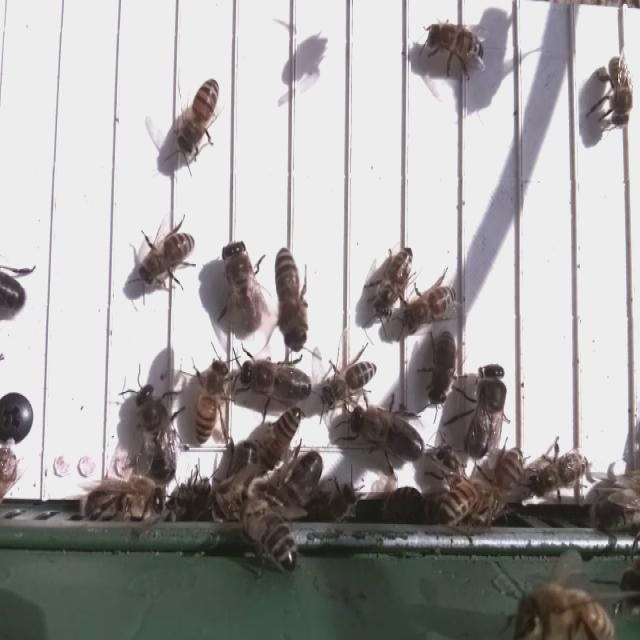Drone: (347, 404, 427, 468), (463, 356, 510, 464), (134, 381, 179, 486), (236, 356, 316, 409), (221, 239, 265, 334), (283, 443, 326, 516)
Worker: (175, 70, 222, 161), (273, 240, 309, 352), (135, 227, 198, 291), (315, 356, 381, 415), (191, 352, 231, 448), (400, 278, 461, 336), (423, 19, 487, 71), (373, 244, 416, 318), (258, 402, 303, 472), (530, 446, 591, 496), (422, 326, 458, 410), (602, 47, 635, 134)
